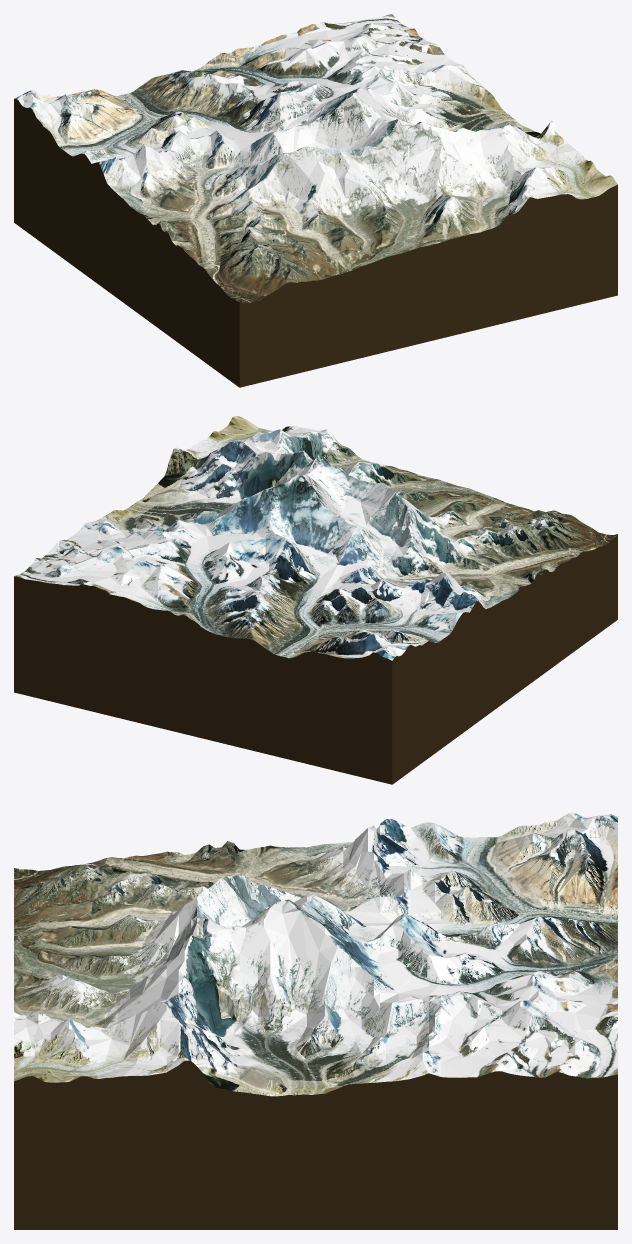
3 renders of one model, top to bottom at view 1: azimuth 30°, elevation 25°; view 2: azimuth 150°, elevation 25°; view 3: azimuth 270°, elevation 25°, orthographic. The views are drawn at different scales.
Parts seen in each view (by area): view 1: CityEngineTerrainMaterial.001; view 2: CityEngineTerrainMaterial.001; view 3: CityEngineTerrainMaterial.001.
Part boxes in pixels (left/top/right/bottom): CityEngineTerrainMaterial.001: left=14, top=14, right=617, bottom=387; CityEngineTerrainMaterial.001: left=14, top=416, right=617, bottom=784; CityEngineTerrainMaterial.001: left=14, top=813, right=617, bottom=1229.
Size of the model in its own units: 20610 by 8677 by 21286.
2 materials, 1 textured.
